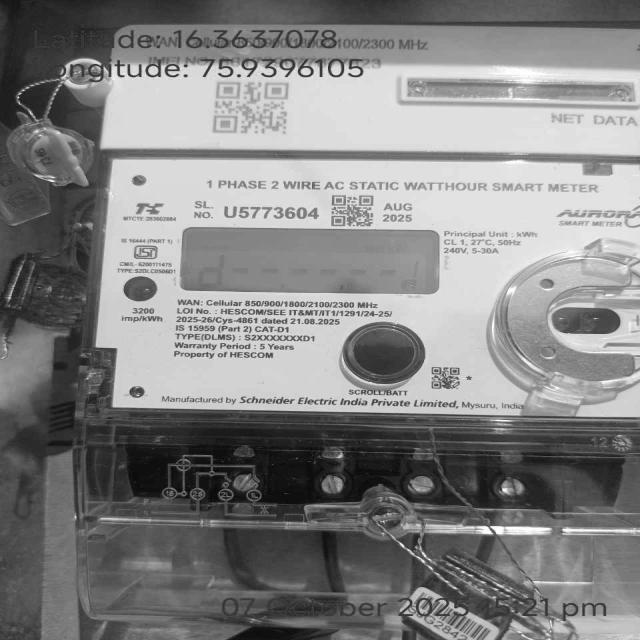meter: (102, 25, 639, 415)
